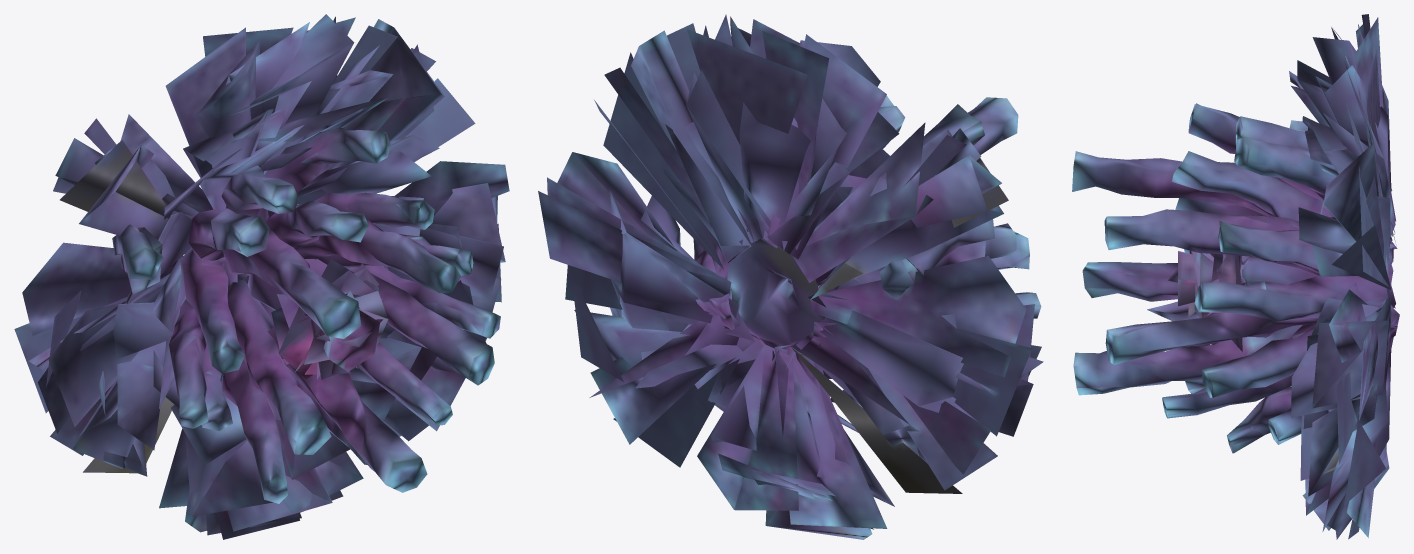
Rendered from 15_coral_colisao_3d.obj.
3 renders of one model, left to right at view 1: azimuth 30°, elevation 25°; view 2: azimuth 150°, elevation 25°; view 3: azimuth 270°, elevation 25°, orthographic. The views are drawn at different scales.
Parts seen in each view (by area): view 1: Mesh_0; view 2: Mesh_0; view 3: Mesh_0.
Boxes of the visible parts, bbox=[...] form: Mesh_0: bbox=[14, 14, 509, 539]; Mesh_0: bbox=[538, 14, 1043, 539]; Mesh_0: bbox=[1072, 14, 1399, 539].
Bounding box in the file's own units: 6.27 × 6.09 × 3.73.
1 material, 1 textured.
